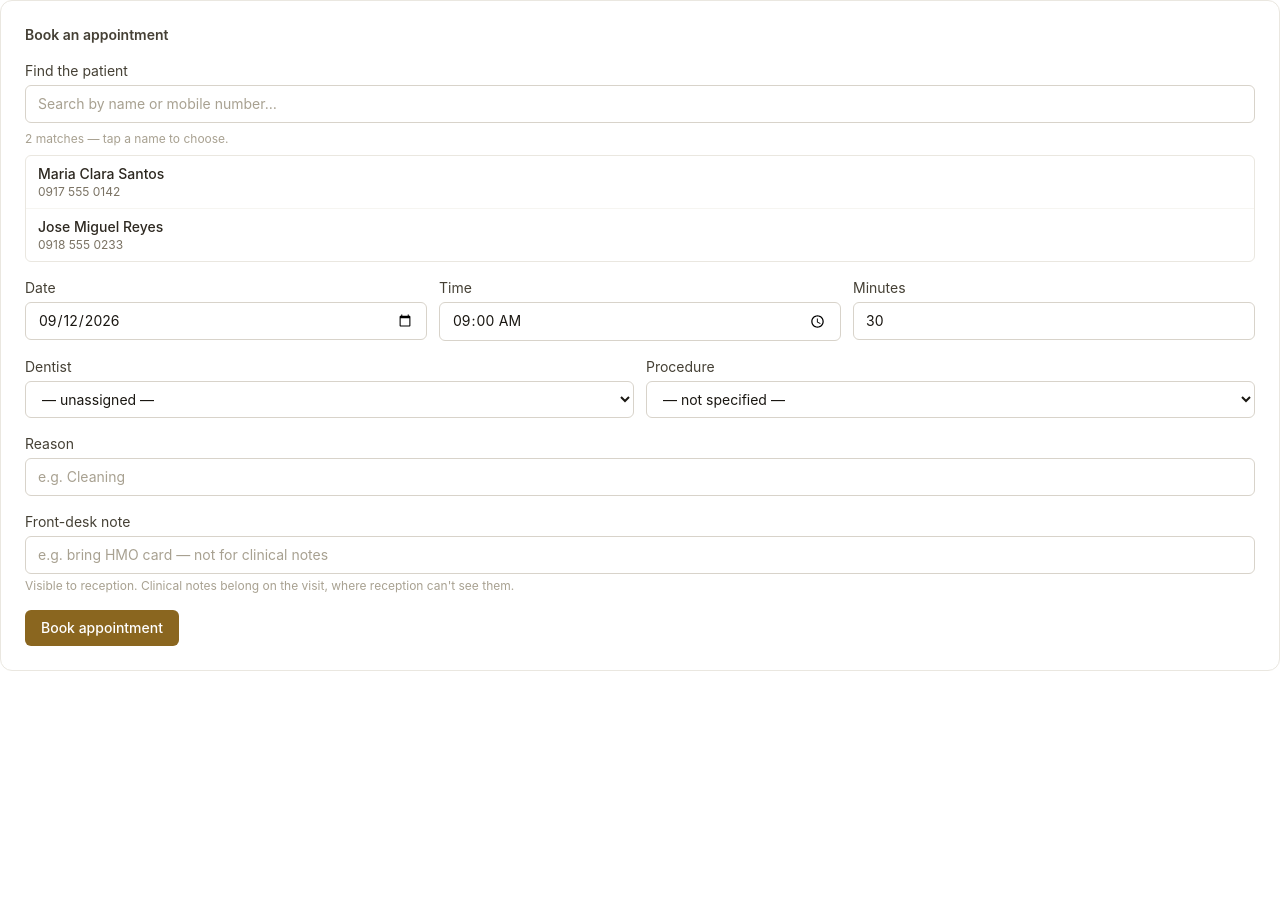
Test case: BookAppointmentForm › surfaces a double-booking refusal from the database
Step 1. Click the text "Maria Clara Santos" → (101, 174), box [38, 165, 164, 182]
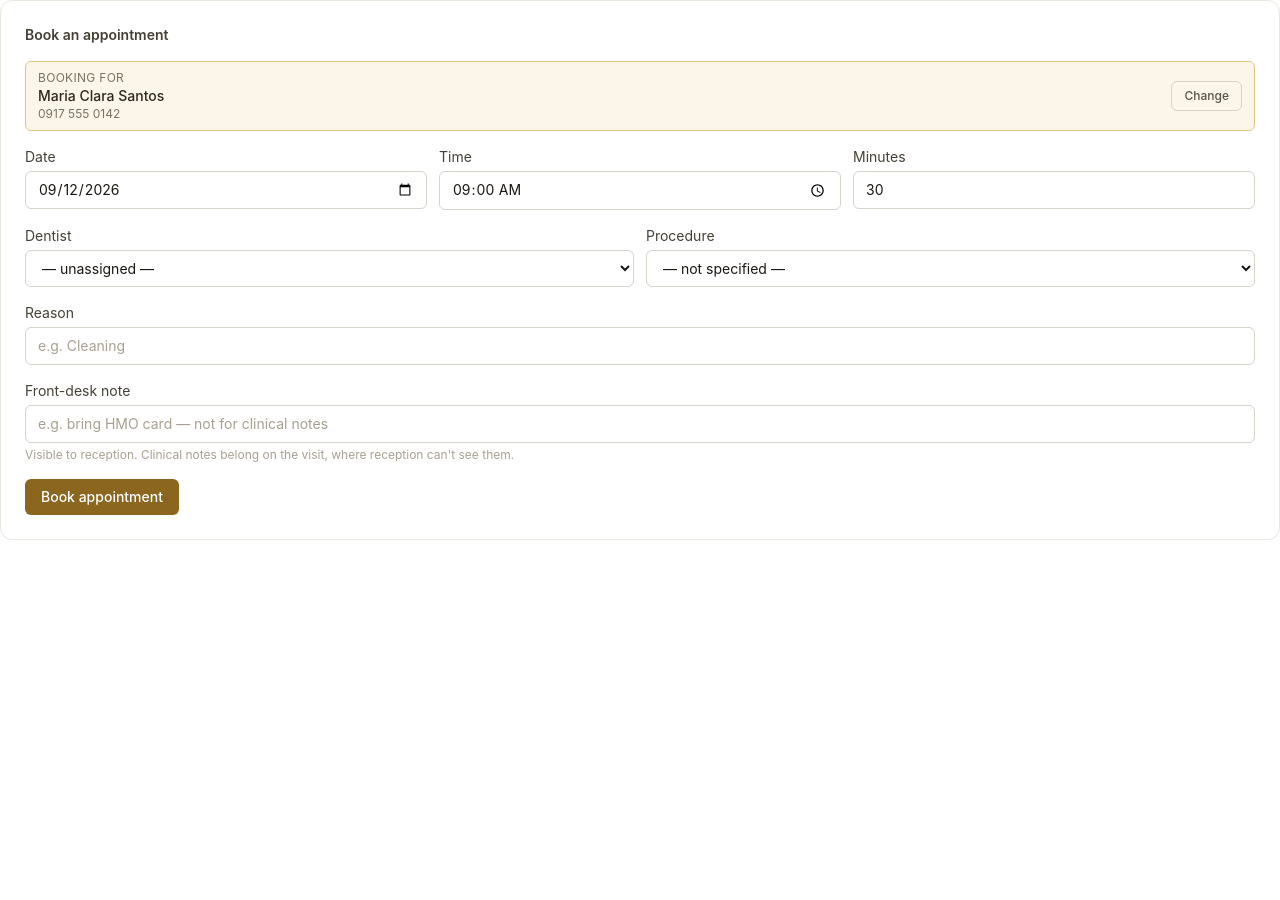
Step 2. Click the button "Book appointment" → (102, 497), box [25, 479, 179, 515]
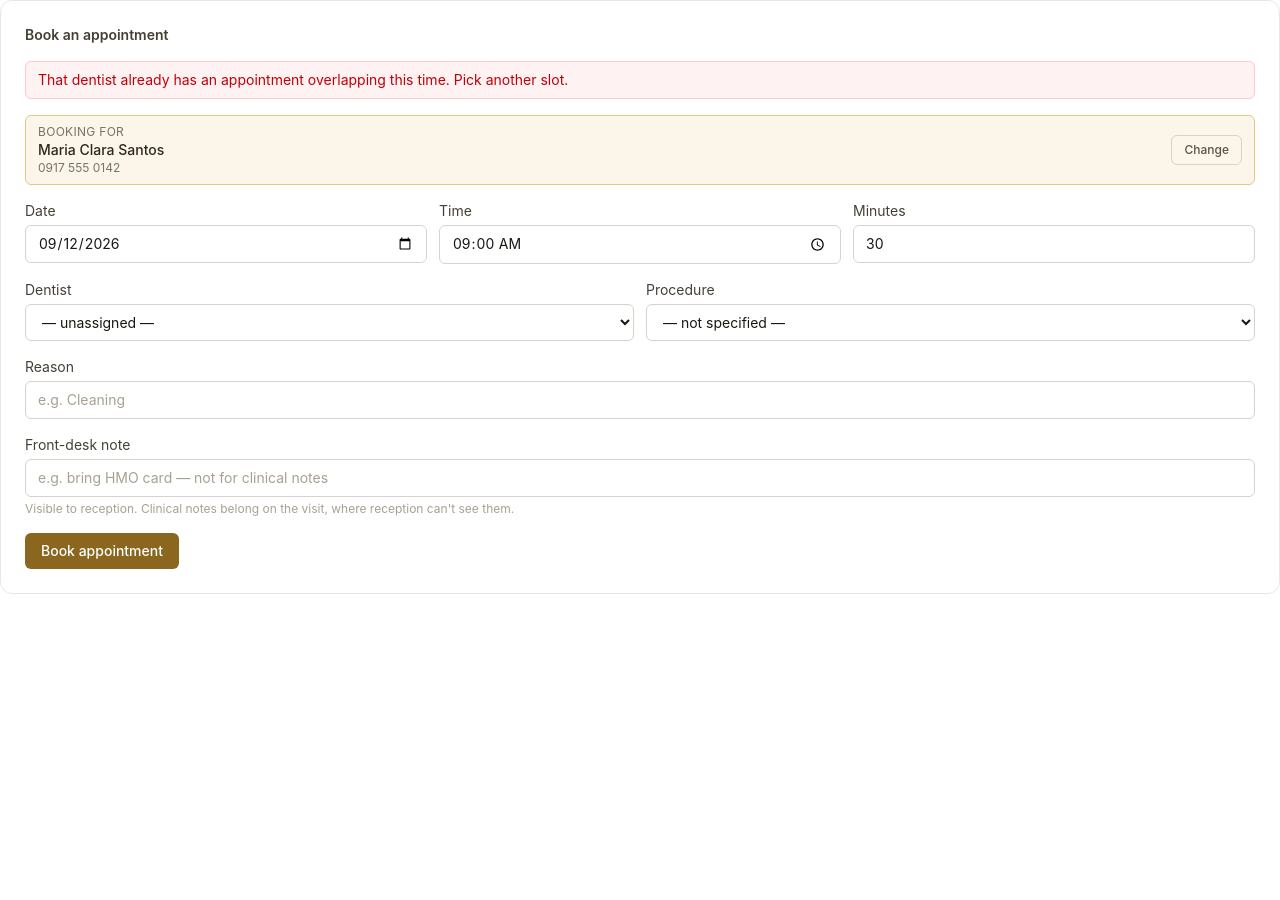
Expected: the message shows "overlapping this time", [38, 71, 568, 88]
